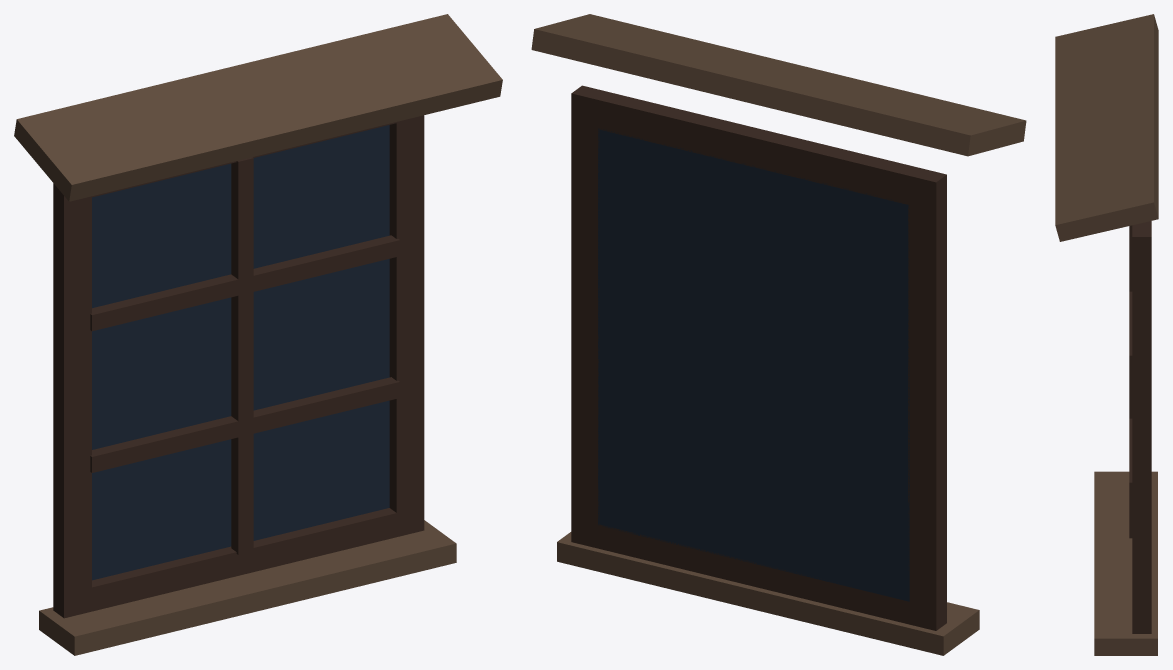
Rendered from window_glass.glb.
3 renders of one model, left to right at view 1: azimuth 30°, elevation 25°; view 2: azimuth 150°, elevation 25°; view 3: azimuth 270°, elevation 25°, orthographic. The views are drawn at different scales.
Visible parts, largest first — view 1: window_glass; view 2: window_glass; view 3: window_glass.
Part boxes in pixels (<box>): window_glass: <box>14,14,502,655</box>; window_glass: <box>531,14,1026,655</box>; window_glass: <box>1055,14,1158,655</box>.
Bounding box in the file's own units: 1.4 × 1.61 × 0.3249.
